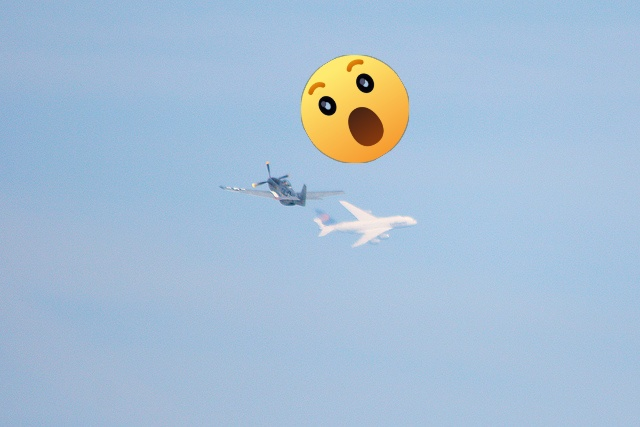wow: (301, 55, 409, 163)
